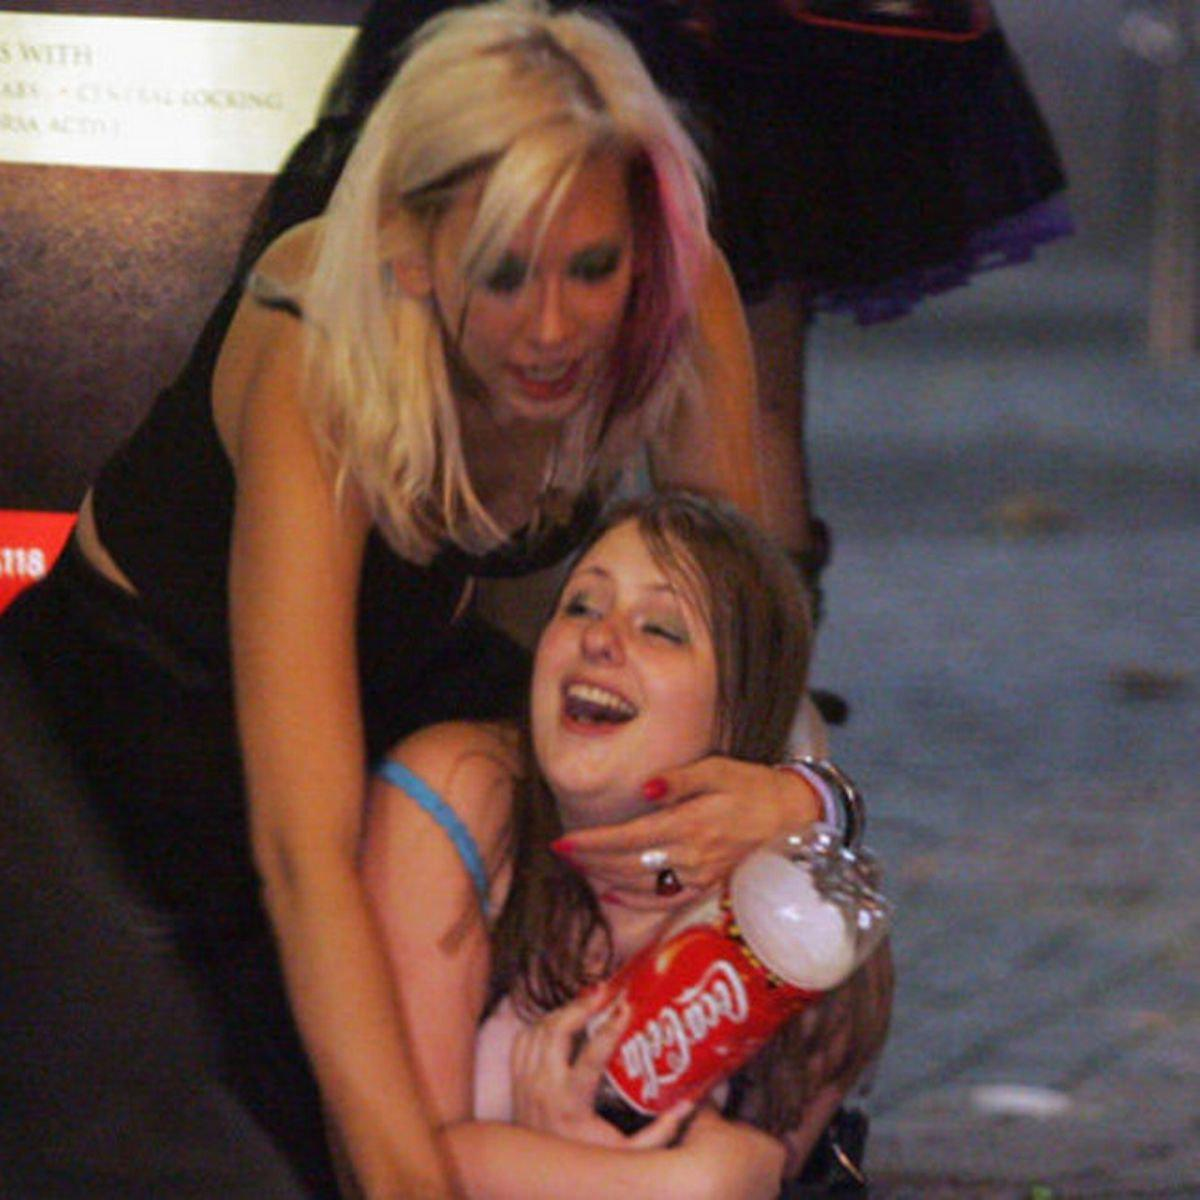Drunk: (531, 523, 725, 795), (446, 168, 631, 416)
